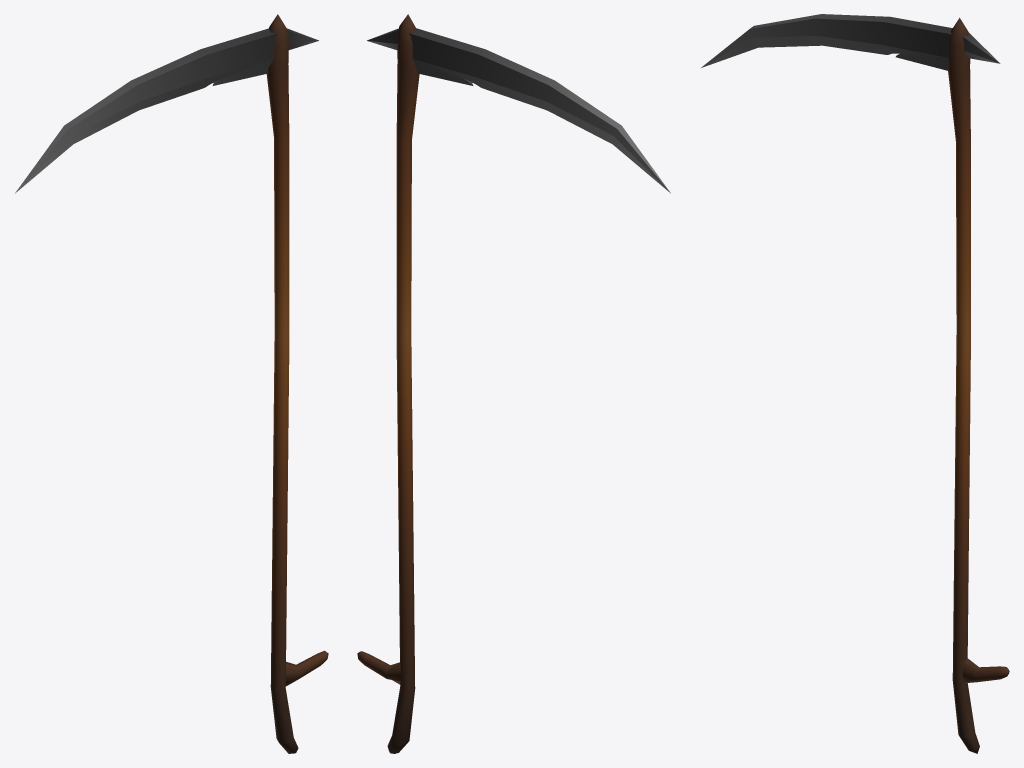
Rendered from Scythe2h_01.fbx.
3 views of the same model, side by side, from view 1: azimuth 30°, elevation 25°; view 2: azimuth 150°, elevation 25°; view 3: azimuth 330°, elevation 25° (orthographic).
Visible parts, largest first — view 1: Scythe2h_01; view 2: Scythe2h_01; view 3: Scythe2h_01.
Boxes of the visible parts, left/top/right/bottom form: Scythe2h_01: left=15, top=14, right=328, bottom=753; Scythe2h_01: left=357, top=14, right=670, bottom=753; Scythe2h_01: left=701, top=14, right=1009, bottom=753.
Size of the model in its own units: 66.91 by 151 by 4.26.
